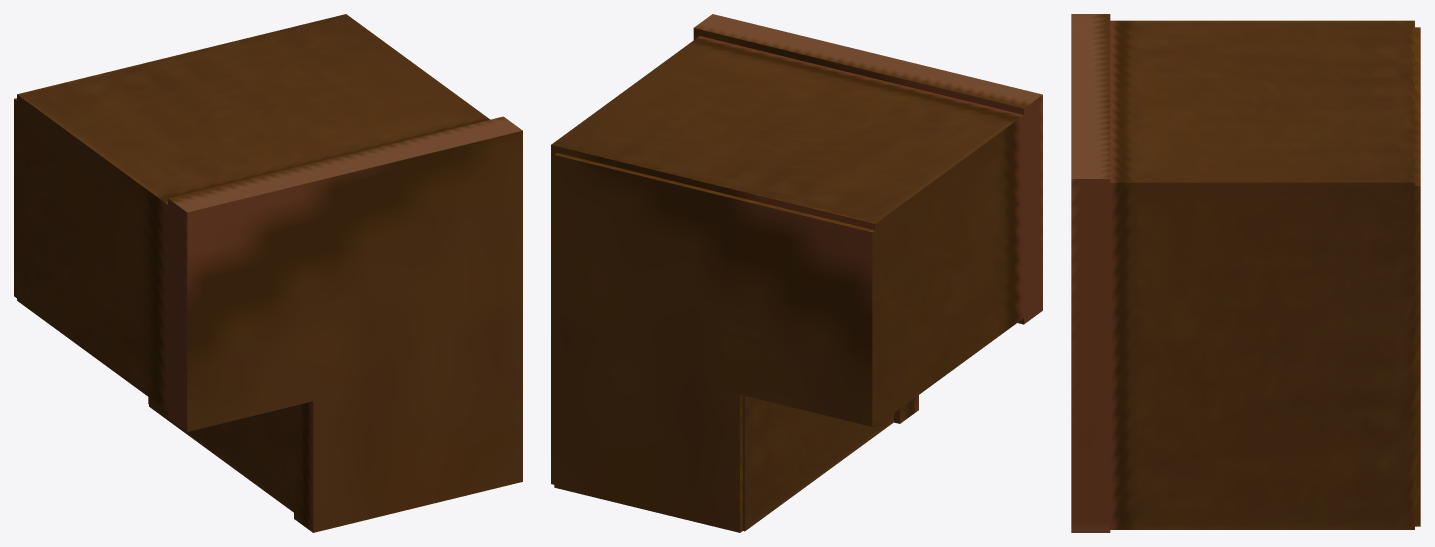
Rendered from pz_counter_oak_corner.obj.
3 views of the same model, side by side, from view 1: azimuth 30°, elevation 25°; view 2: azimuth 150°, elevation 25°; view 3: azimuth 270°, elevation 25° (orthographic). The views are drawn at different scales.
Size of the model in its own units: 1 by 1 by 0.895.
Materials: 1 (1 with a texture image).
